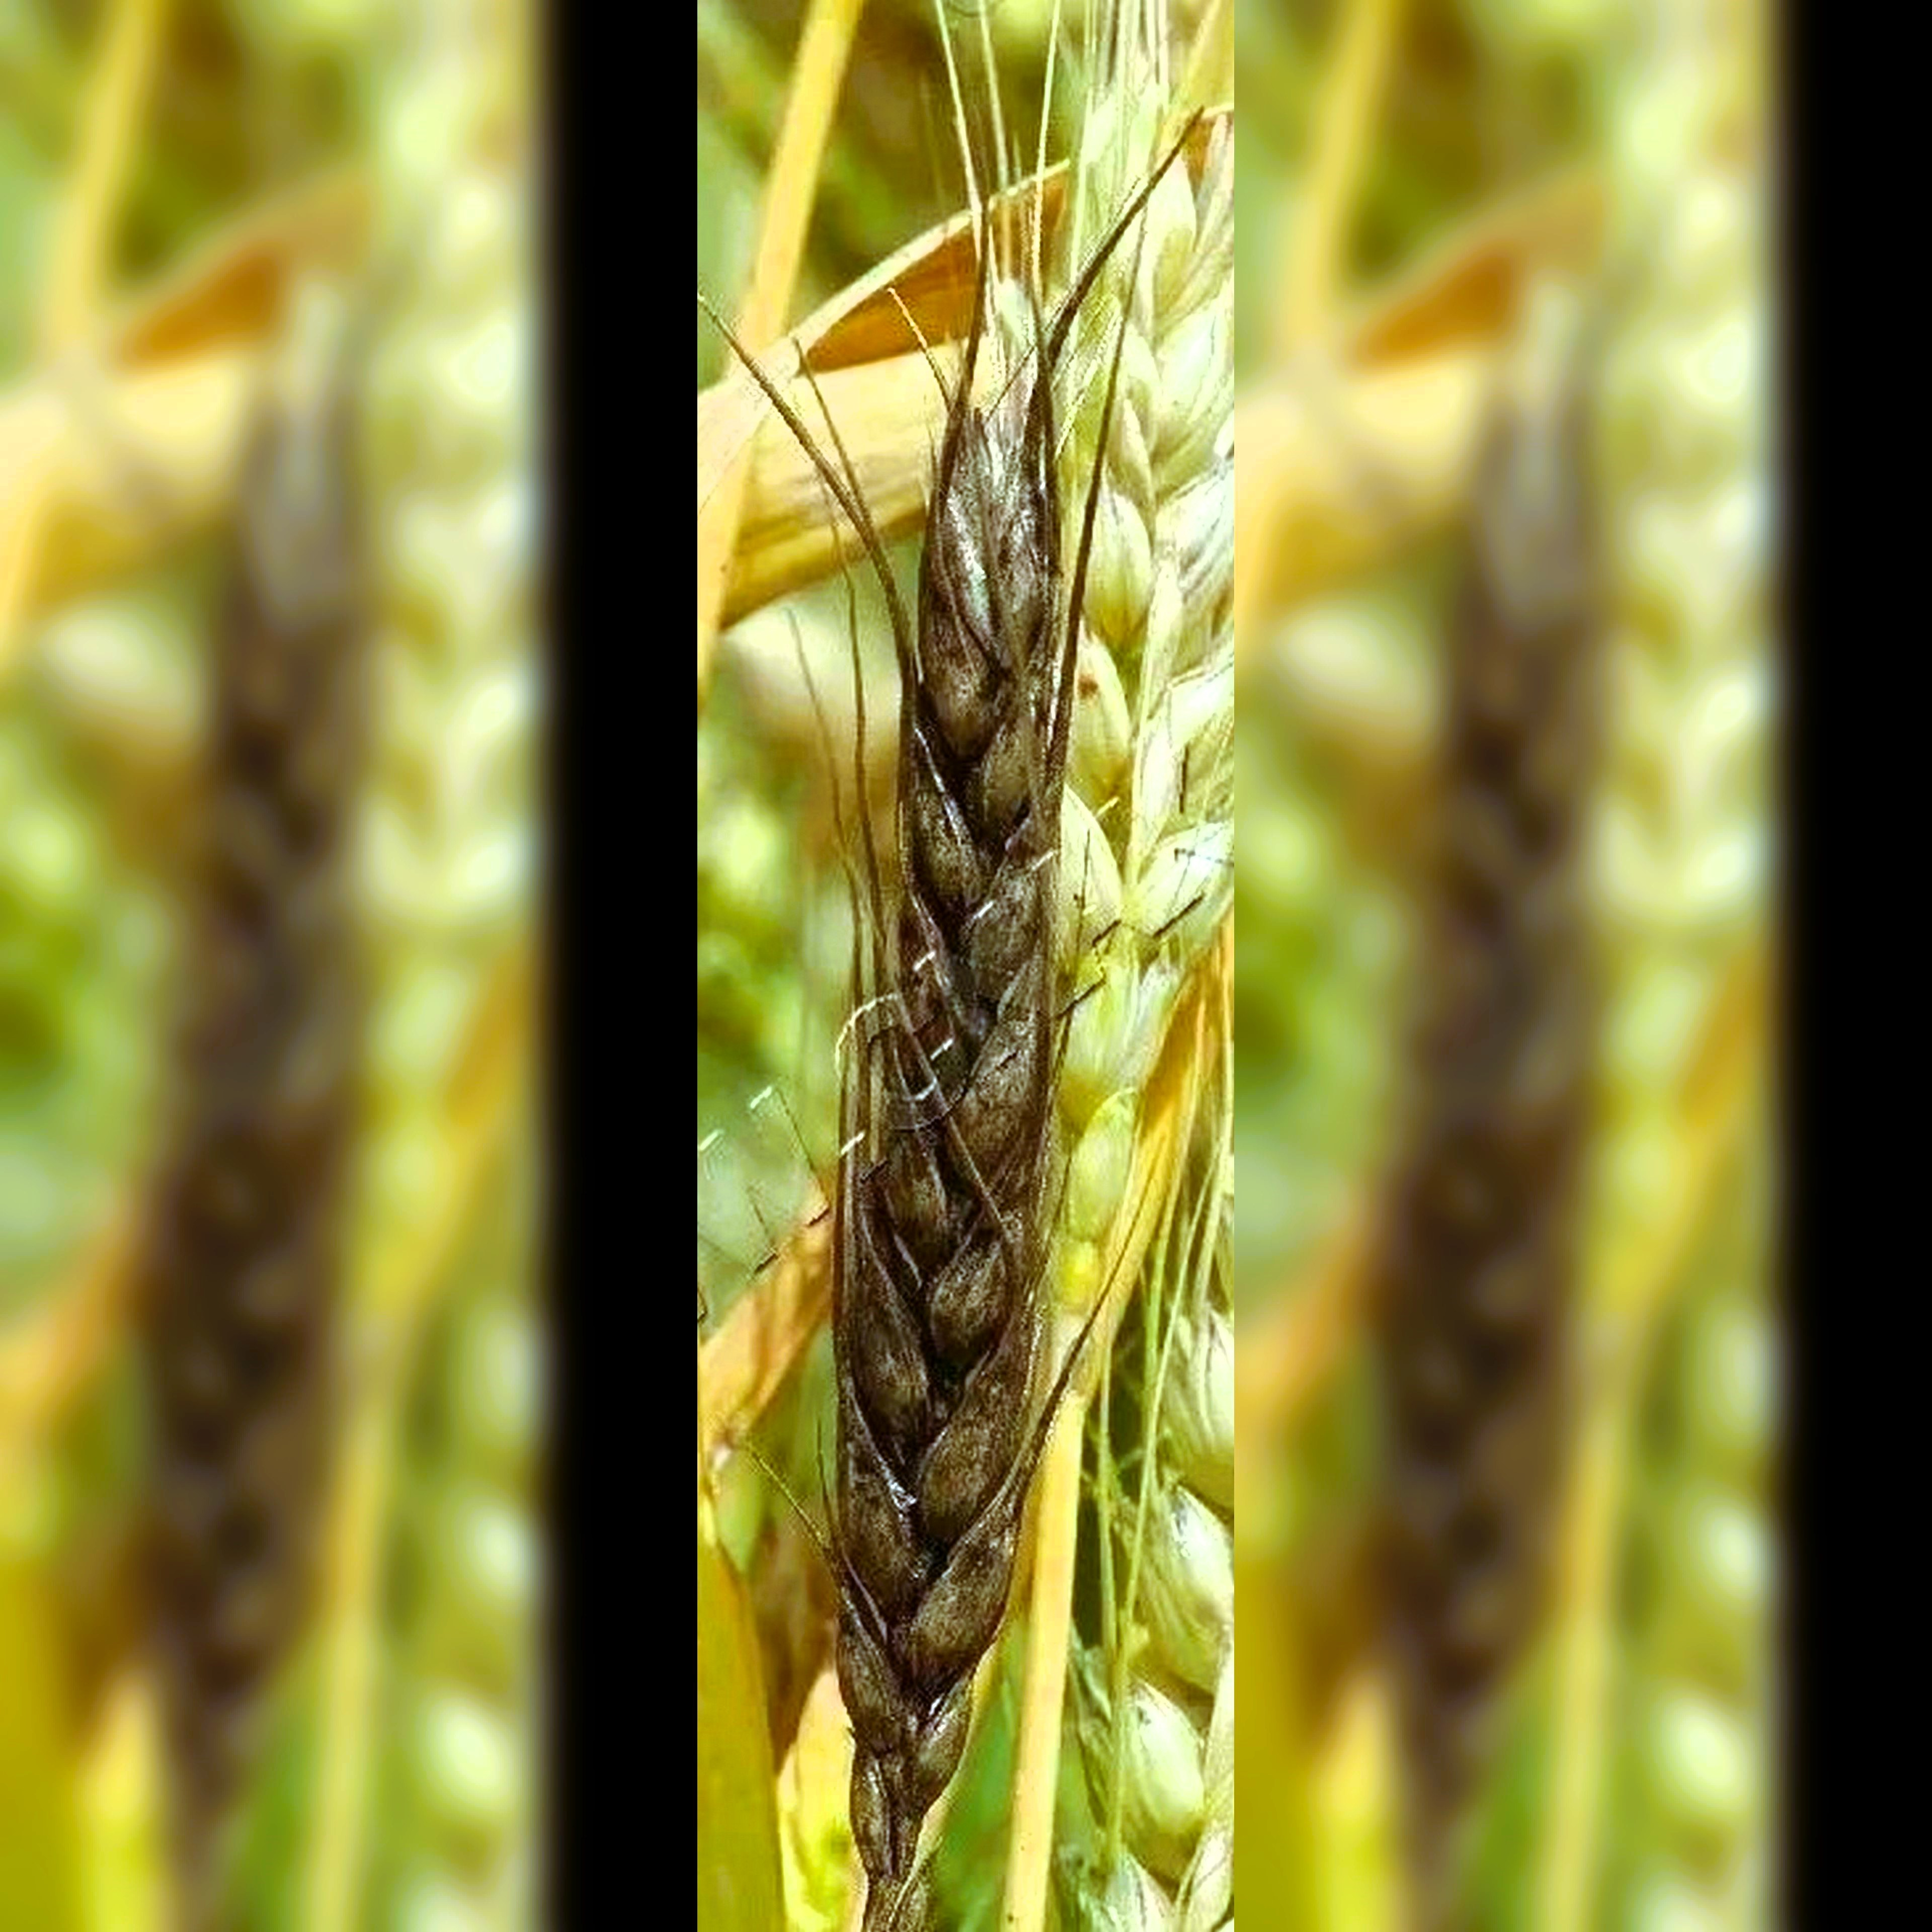Wheat Loose Smut: (794, 409, 1125, 1727)
